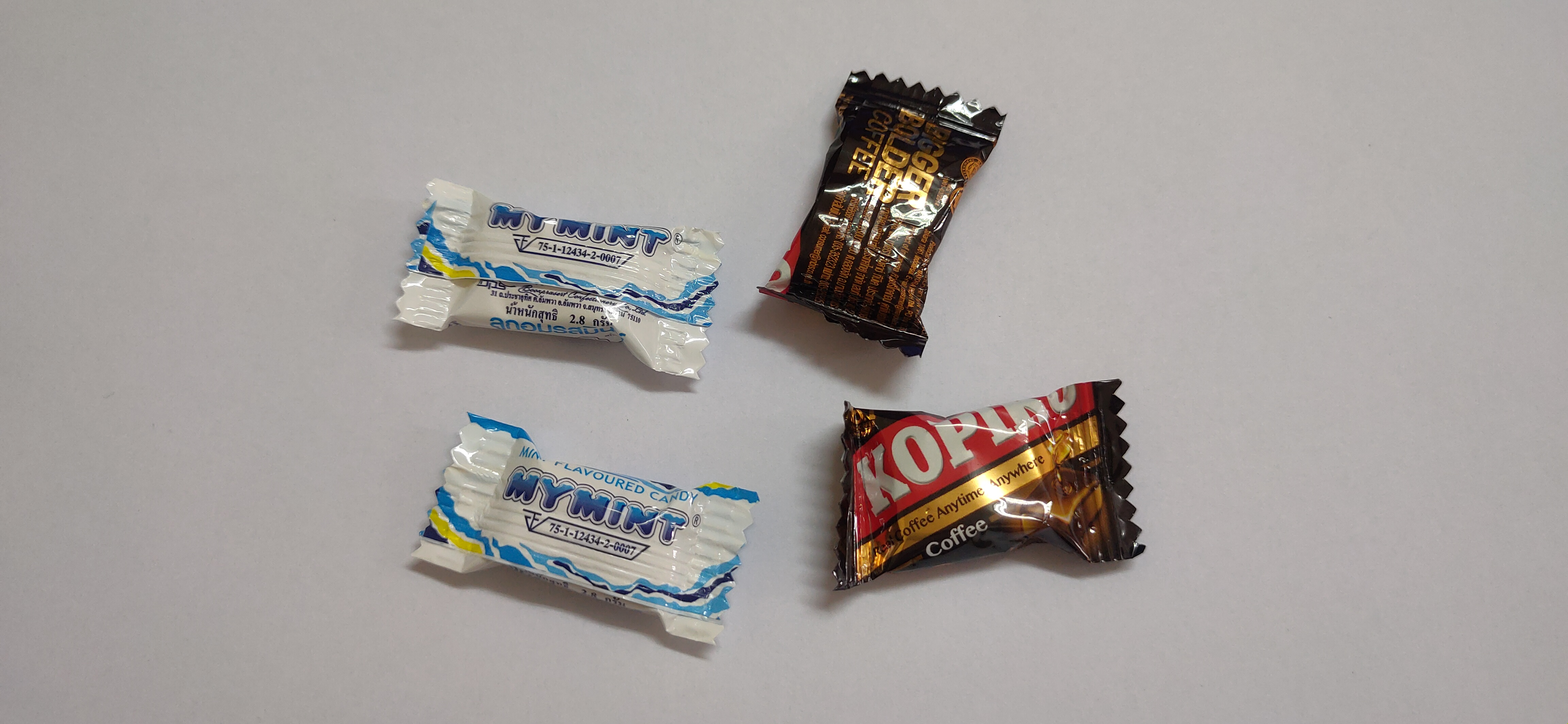plastic: (815, 334, 1174, 633), (401, 391, 777, 660), (363, 161, 749, 413), (736, 69, 1048, 377)
